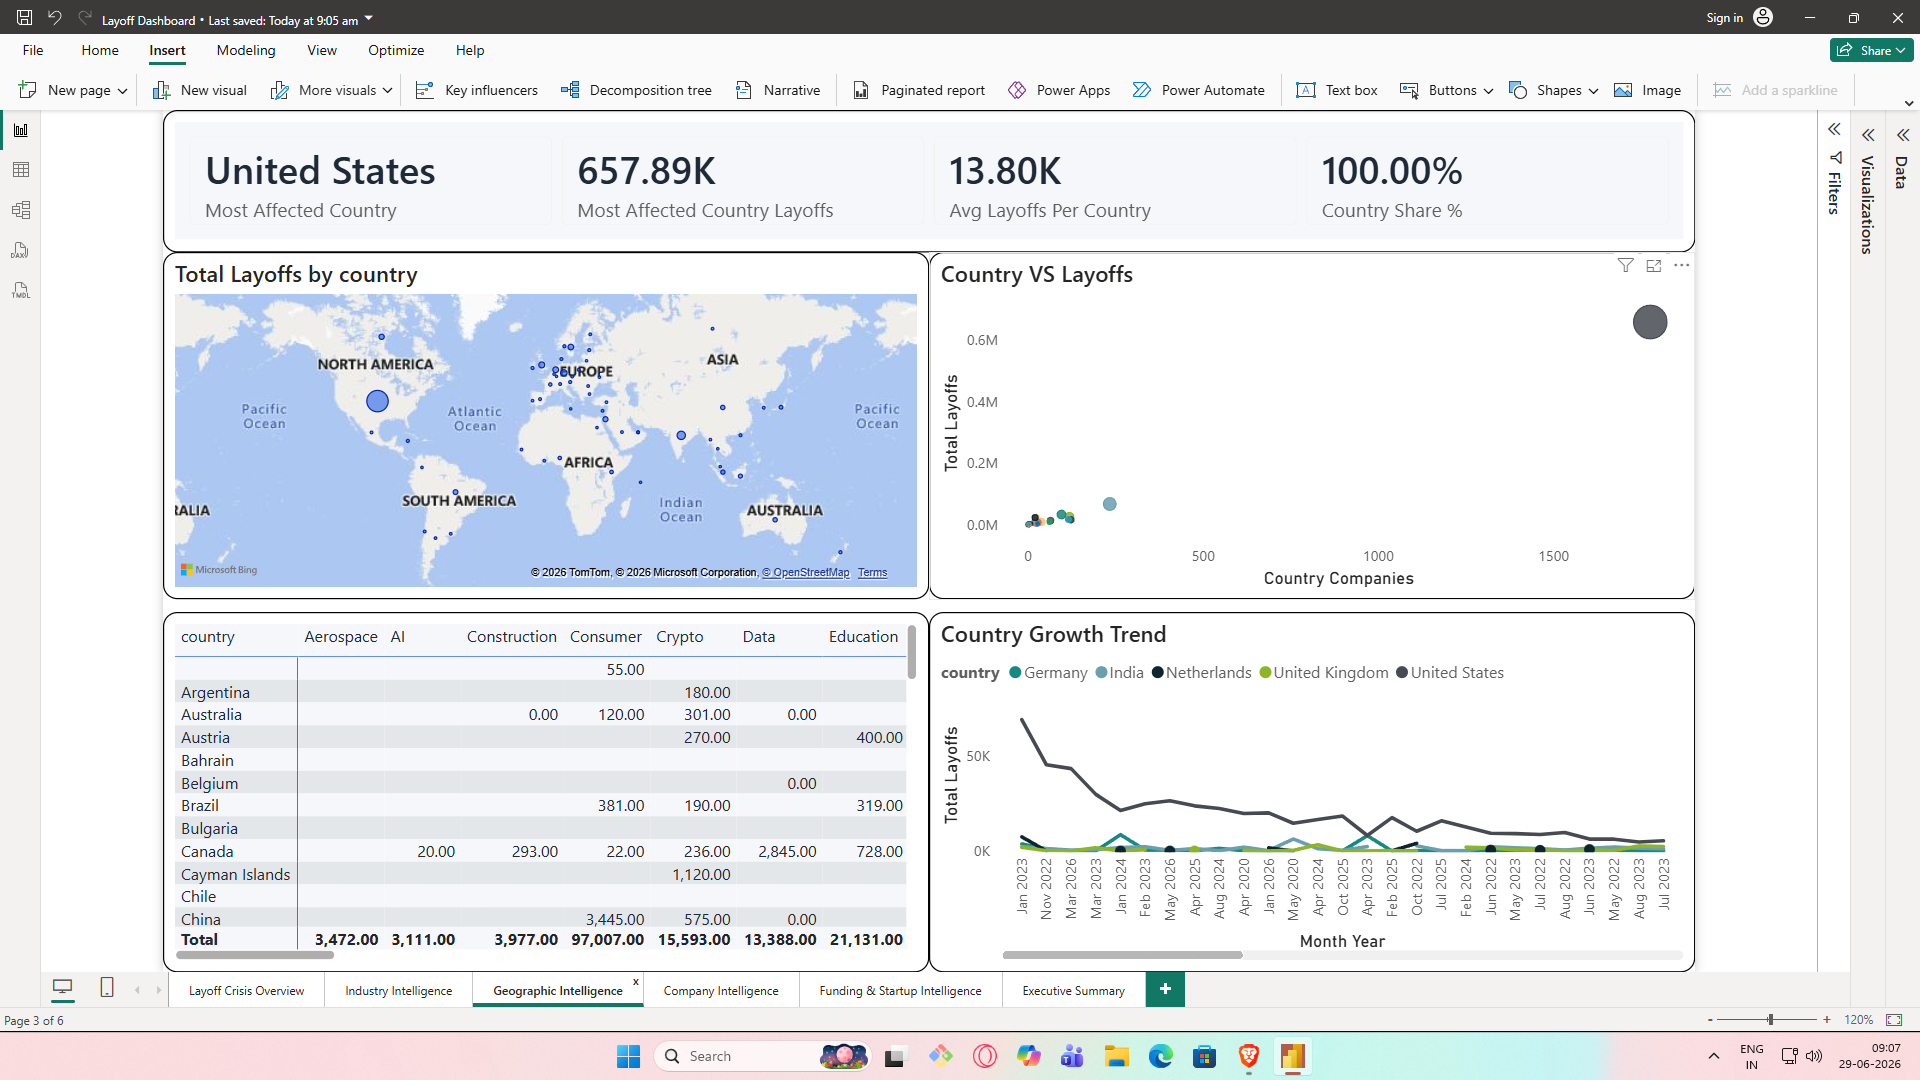

The dashboard page shown, as its layout file describes it:
{"tool":"powerbi","page":{"name":"Geographic Intelligence","canvas":[1280,720],"ordinal":2},"visuals":[{"type":"cardVisual","fields":{"Data":["layoffs.Most Affected Country","layoffs.Most Affected Country Layoffs","layoffs.Avg Layoffs Per Country","layoffs.Country Share %"]},"box":[0,0,1280,118.7],"z":0},{"type":"map","fields":{"Category":["layoffs.country"],"Size":["layoffs.Total Layoffs"]},"box":[0,118.7,640,289.8],"z":1000},{"type":"pivotTable","fields":{"Rows":["layoffs.country"],"Columns":["layoffs.industry"],"Values":["layoffs.Total Layoffs"]},"box":[0,419.2,640,300.5],"z":2000},{"type":"scatterChart","title":"Country VS Layoffs","fields":{"X":["layoffs.Country Companies"],"Y":["layoffs.Total Layoffs"],"Size":["layoffs.Country Funding"],"Series":["layoffs.country"]},"box":[640,119,640,290],"z":3000},{"type":"lineChart","title":"Country Growth Trend","fields":{"Category":["layoffs.Month Year"],"Y":["layoffs.Total Layoffs"],"Series":["layoffs.country"]},"box":[640,419,640,301],"z":4000}]}

Visuals, with their boxes on the page's 1280x720 design canvas (x1, y1, x2, y2). These are canvas units, not pixel positions in the 1920x1080 screenshot, which may show the page scaled, cropped or inside an application window:
cardVisual - layoffs.Most Affected Country x layoffs.Most Affected Country Layoffs: BBox(0, 0, 1280, 119)
map - layoffs.country x layoffs.Total Layoffs: BBox(0, 119, 640, 408)
pivotTable - layoffs.country x layoffs.industry: BBox(0, 419, 640, 720)
"Country VS Layoffs" scatterChart: BBox(640, 119, 1280, 409)
"Country Growth Trend" lineChart: BBox(640, 419, 1280, 720)
